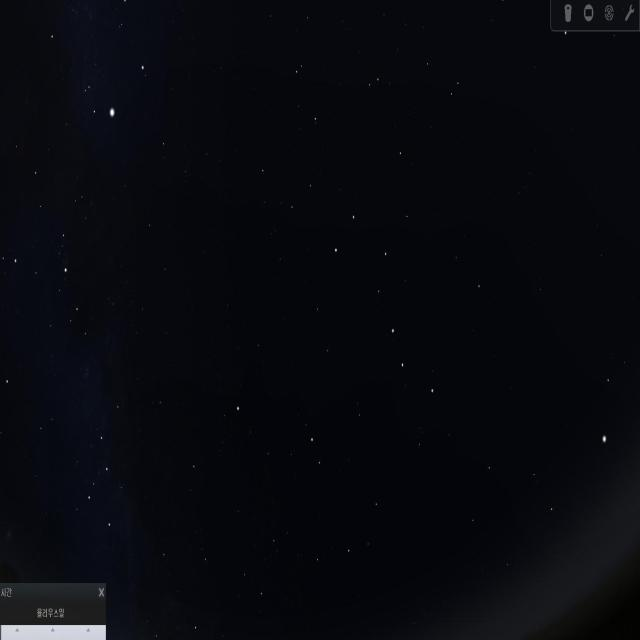cassiopeia: (79, 383, 144, 546)
ursa_major: (327, 197, 443, 412)
